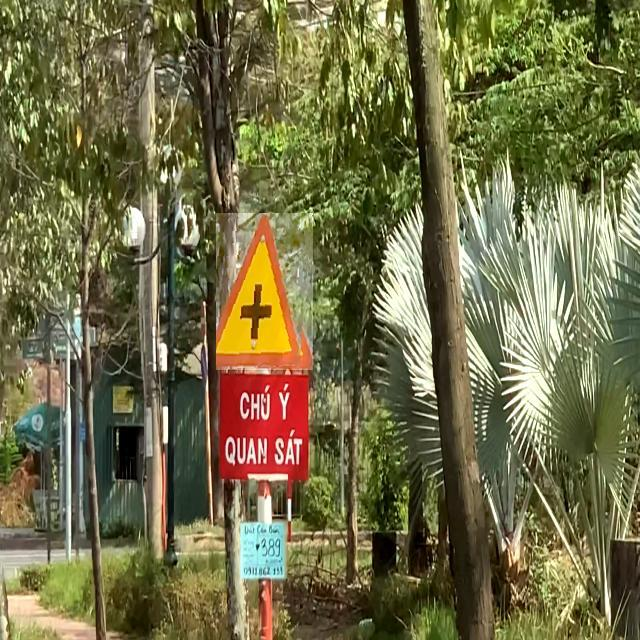W-205a: (216, 213, 313, 370)
